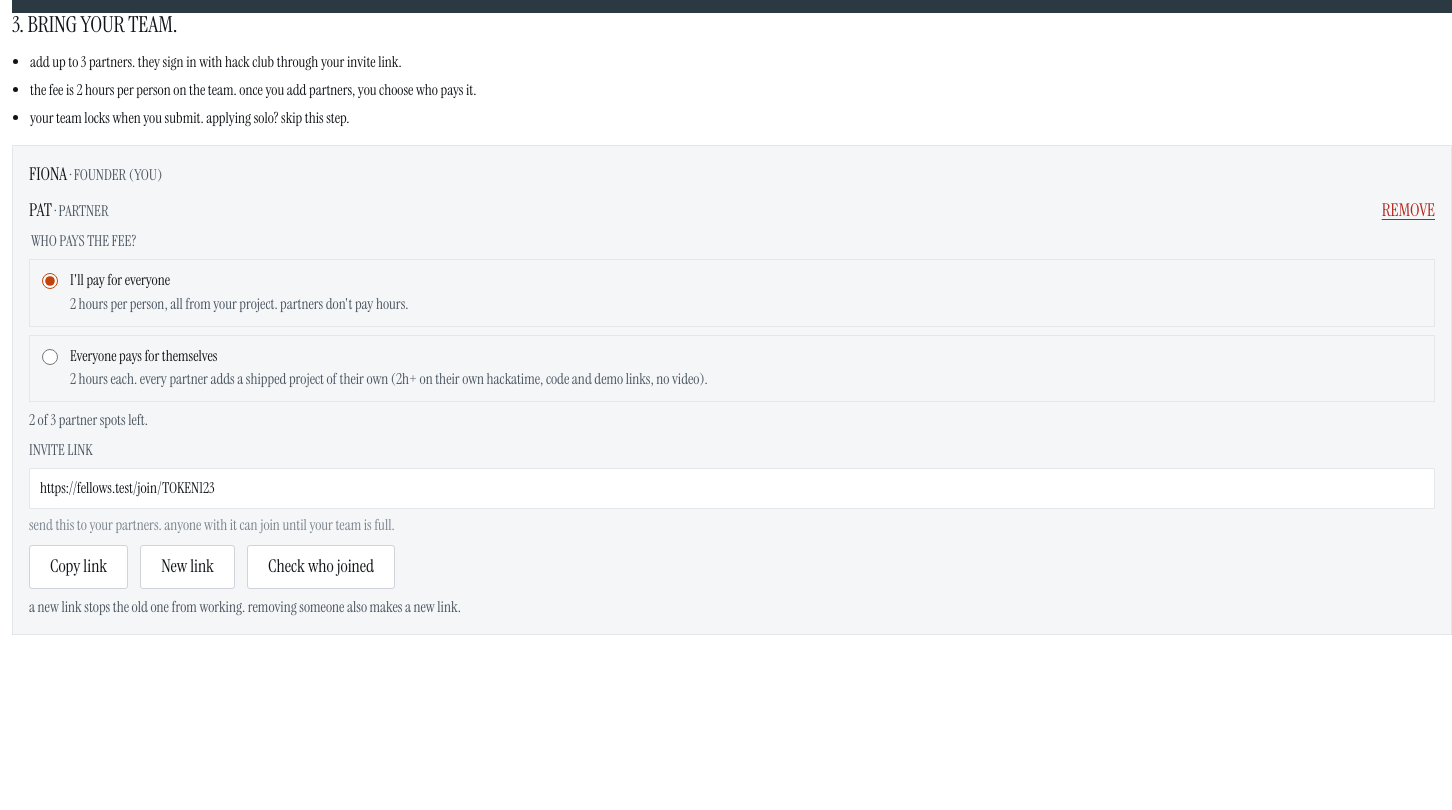
Fee mode choice › switches mode through the server and shows partner readiness
The width and height of the screenshot is (1452, 810).
Click the radio button labelled "Everyone pays for themselves".
click(50, 357)  # box [42, 349, 58, 365]
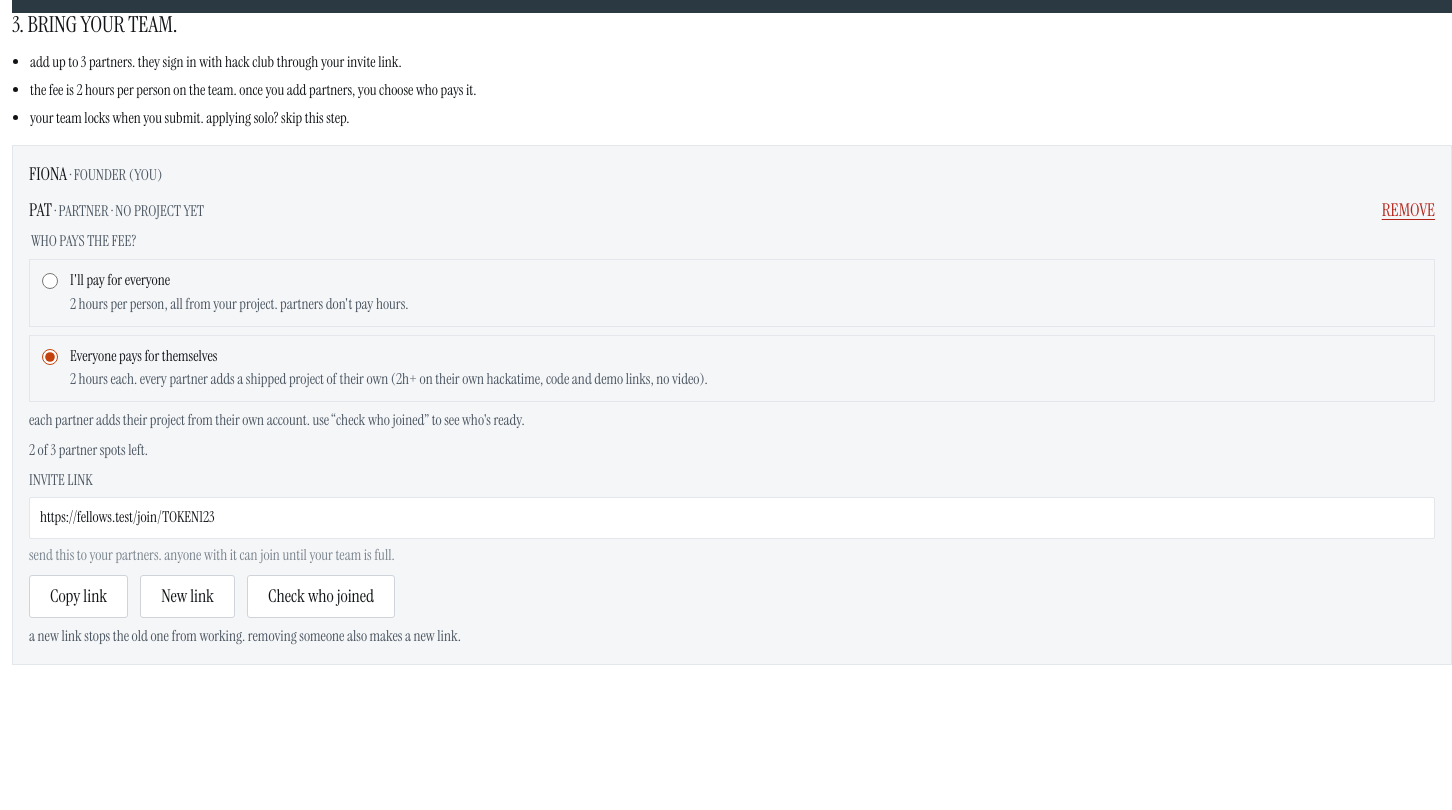
Now the text with test id "ready-p1" shows "no project yet", box [115, 201, 204, 221]
